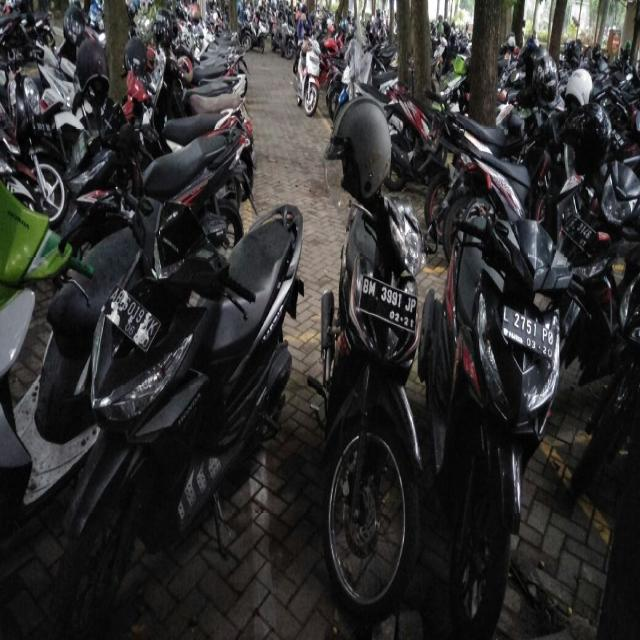plate: (104, 280, 158, 351), (358, 272, 417, 334), (501, 304, 554, 357)
